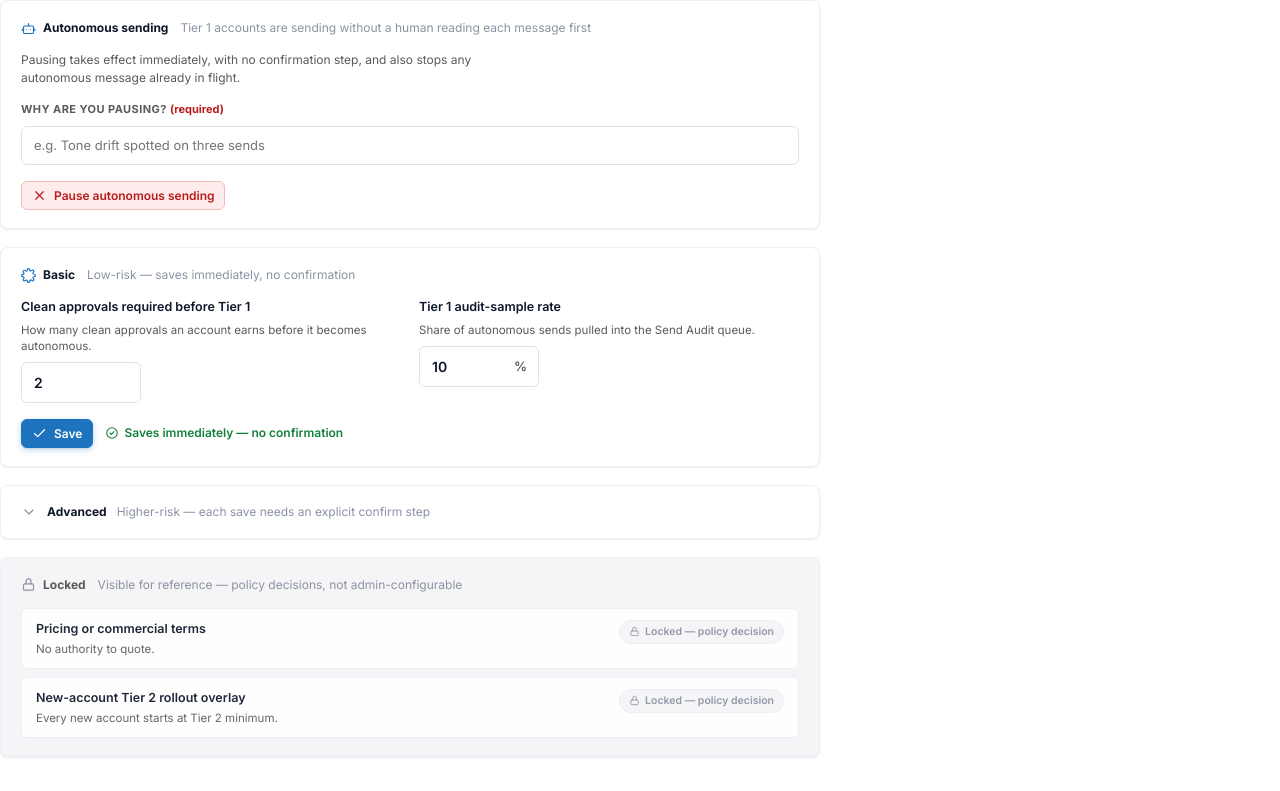
Scenario: SettingsPage › shows the diff and the not-retroactive notice before applying advanced changes
This screenshot has width=1280, height=791.
Expected: the number field named "promotion threshold" is shown, [21,362,141,403]
Click the button "Advanced" at [410, 512], box [21,504,799,520]
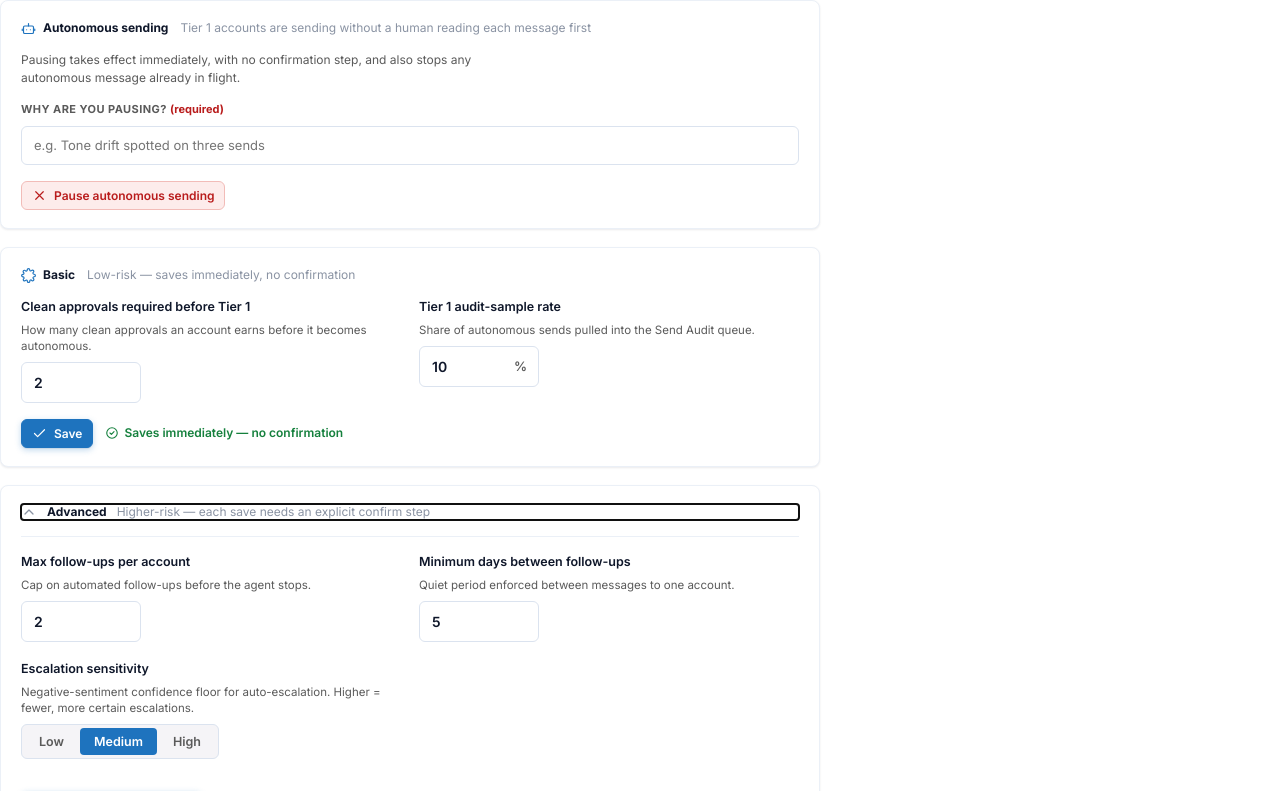
Replace the text in the number field labelled "Max follow-ups" with "4" at [81, 621], box [21,601,141,642]
(page scrolled)
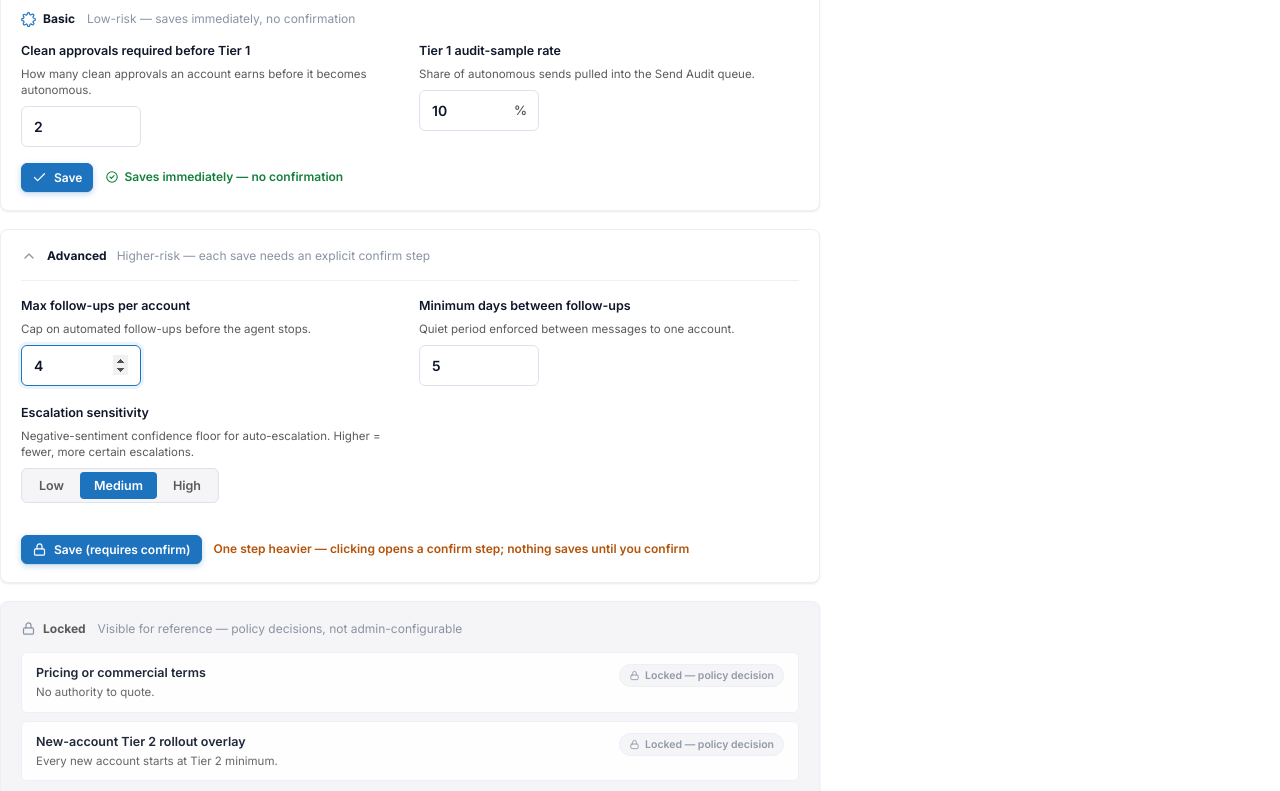
Click the button "Save (requires confirm)" at [111, 549], box [21,535,202,564]
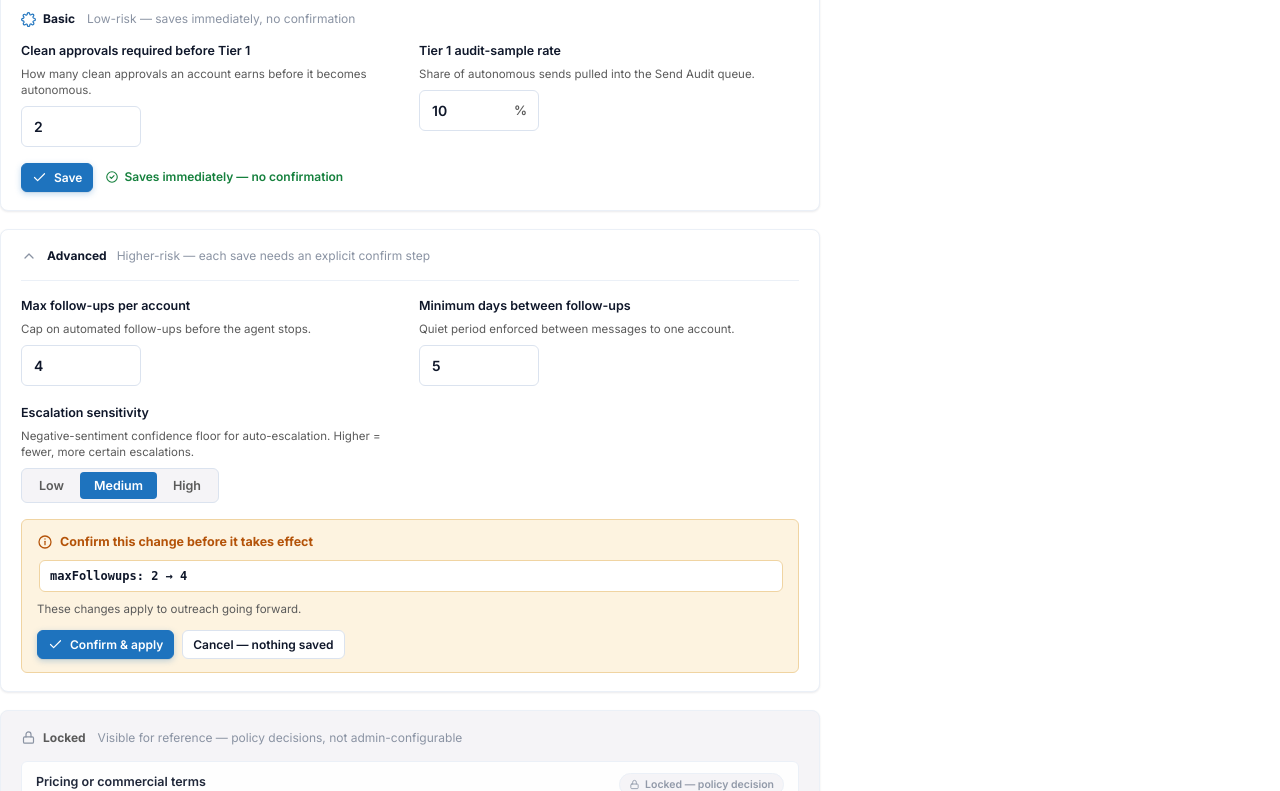
Expected: the list item "maxFollowups: 2 → 4" is shown, [39,560,783,592]
Expected: the text "These changes apply to outreach going forward." is shown, [37,602,301,616]
